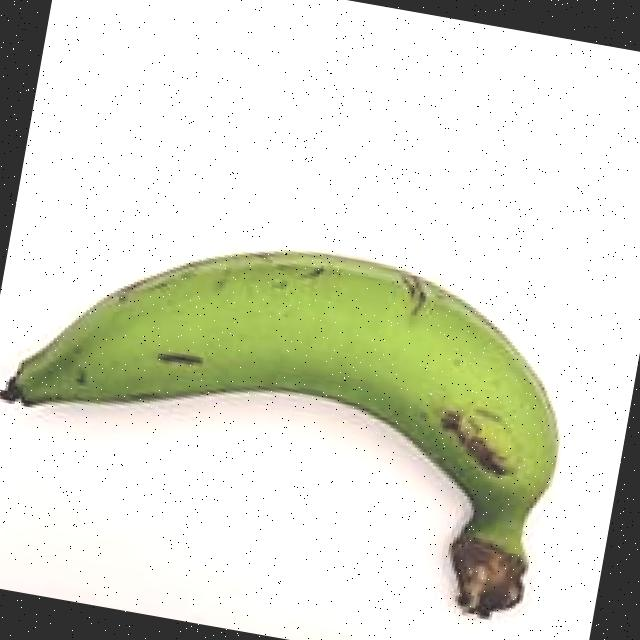Raw: (0, 170, 603, 640)
